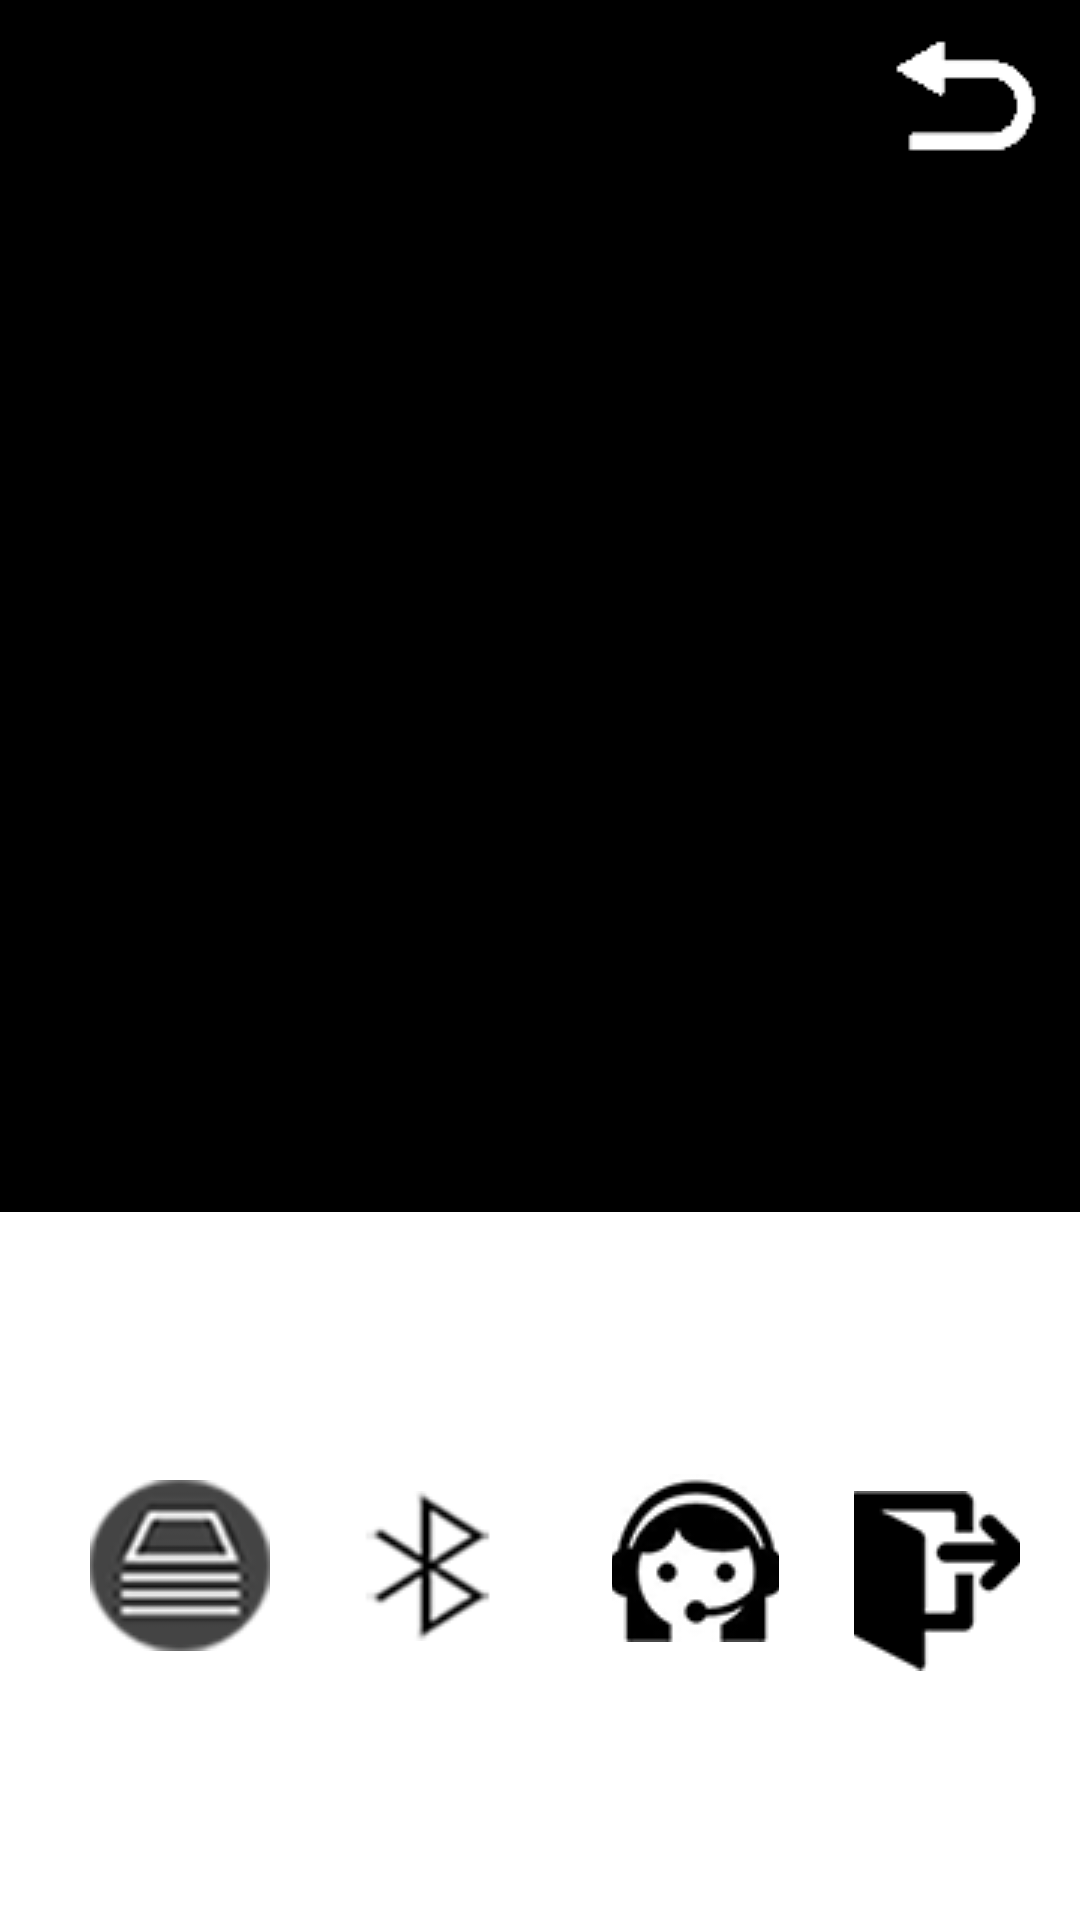

Screen size 1080 × 1920. Icon name, then its box in pixels as (x1, y1, x2, y2):
customcenter: (612, 1479, 779, 1642)
returns: (896, 41, 1036, 151)
